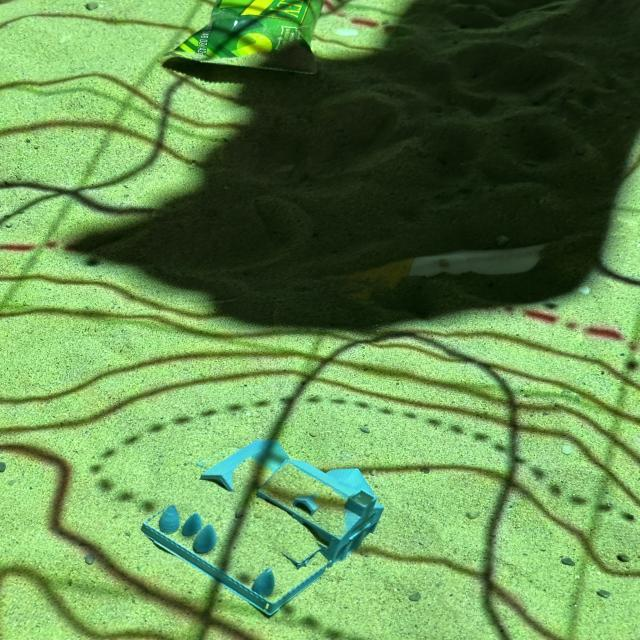house: (140, 438, 385, 617)
